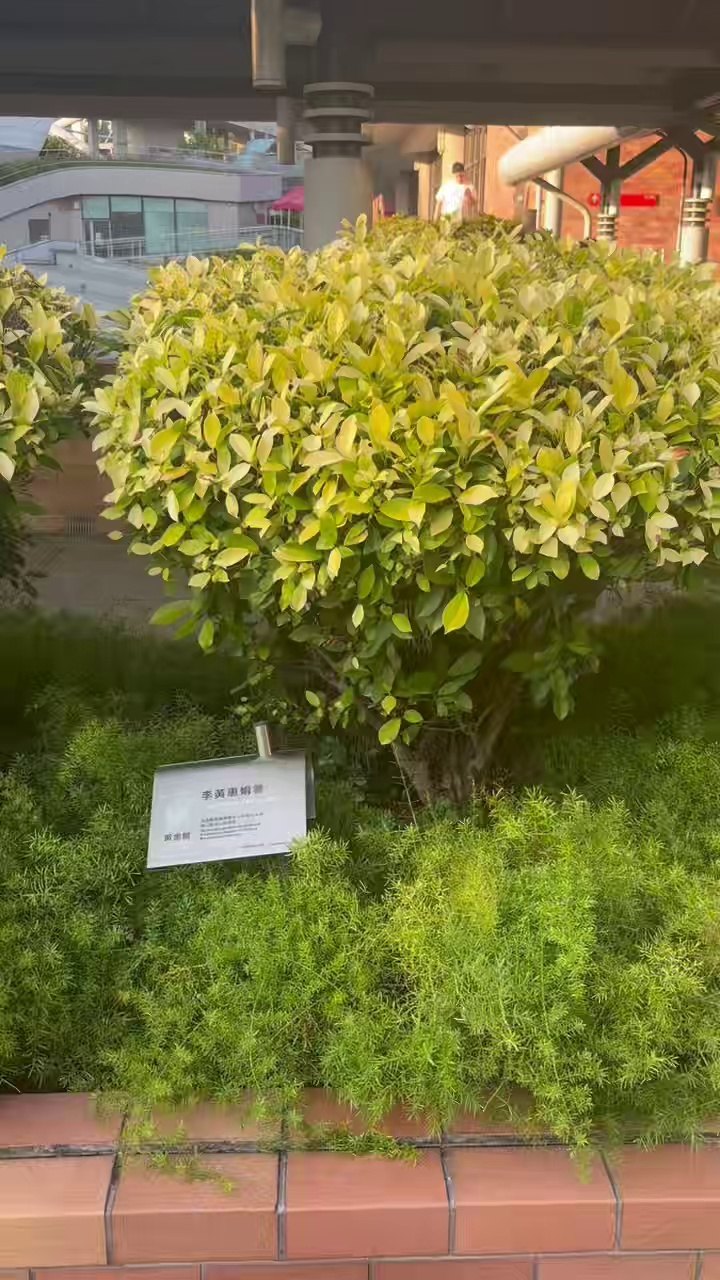Golden-leaves Fig: (86, 220, 719, 763)
